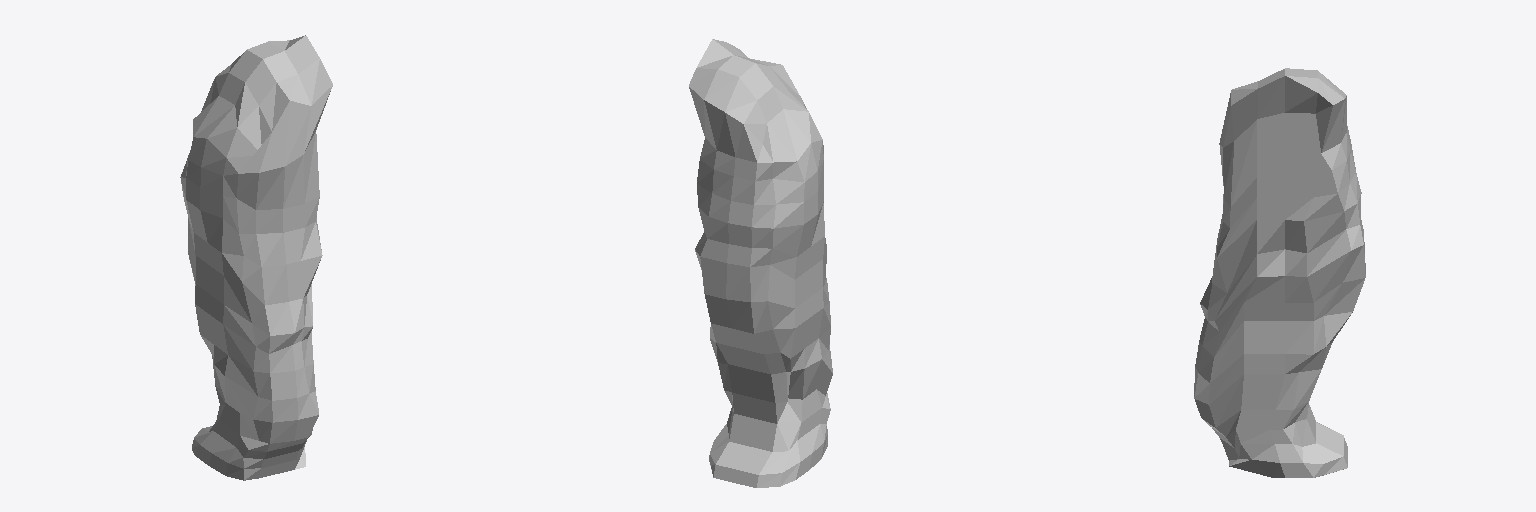
File: rfl.obj
3 renders of one model, left to right at view 1: azimuth 30°, elevation 25°; view 2: azimuth 150°, elevation 25°; view 3: azimuth 270°, elevation 25°, orthographic.
Parts seen in each view (by area): view 1: polar_rf:r_f_leg group3; view 2: polar_rf:r_f_leg group3; view 3: polar_rf:r_f_leg group3.
Part boxes in pixels (x1,y1,x2,y2): polar_rf:r_f_leg group3: (180,35,332,480); polar_rf:r_f_leg group3: (689,39,832,487); polar_rf:r_f_leg group3: (1194,68,1365,477).
Size of the model in its own units: 216 by 805 by 303.